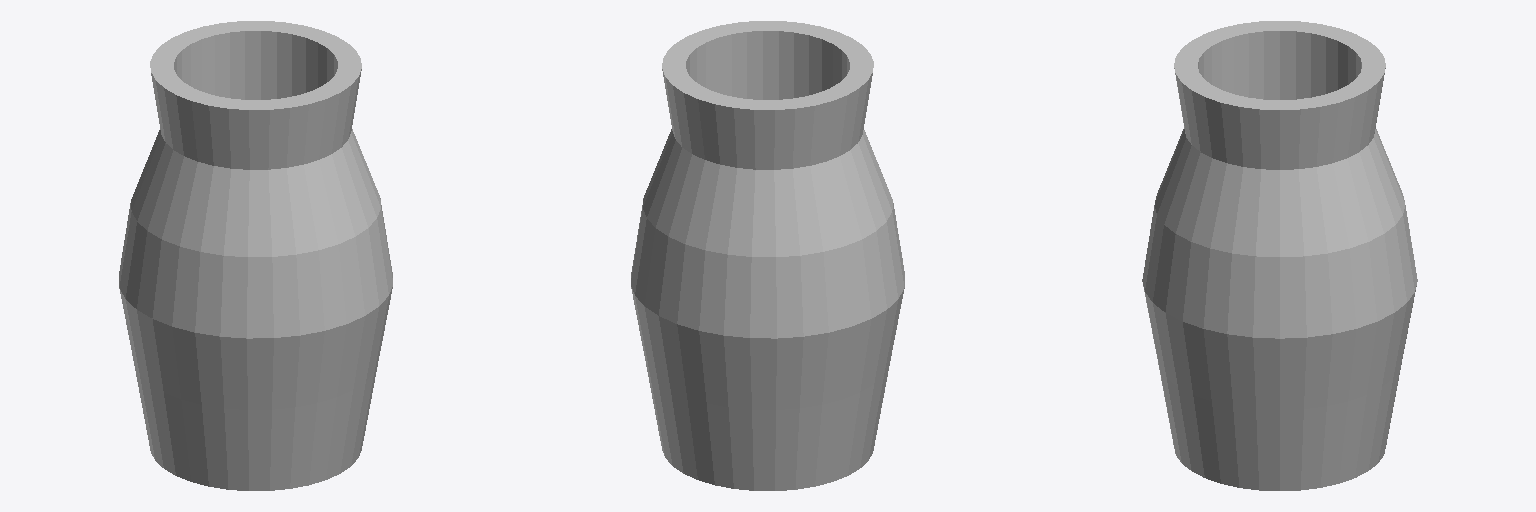
File: vaza.obj
3 views of the same model, side by side, from view 1: azimuth 30°, elevation 25°; view 2: azimuth 150°, elevation 25°; view 3: azimuth 270°, elevation 25° (orthographic).
Parts seen in each view (by area): view 1: Cylinder; view 2: Cylinder; view 3: Cylinder.
Part boxes in pixels (x1,y1,x2,y2): Cylinder: (119,21,392,490); Cylinder: (631,21,904,490); Cylinder: (1142,21,1417,490).
Bounding box in the file's own units: 2.6 × 3.96 × 2.6.